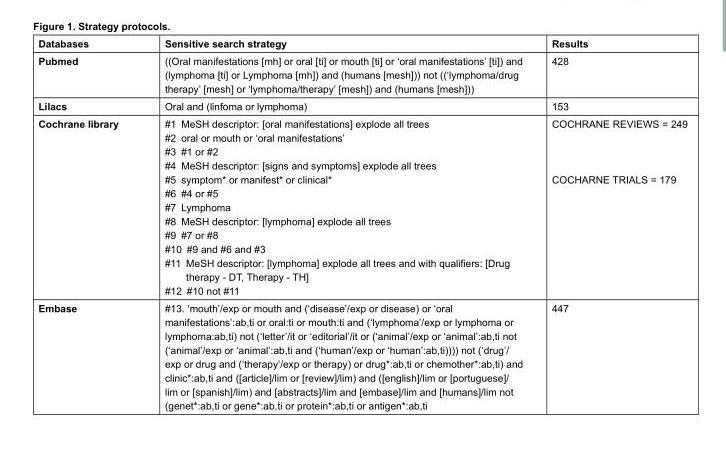table: (37, 37, 686, 410)
table column: (140, 37, 536, 410), (536, 37, 686, 410), (37, 37, 140, 410)
table column header: (37, 37, 686, 51)
table row: (37, 114, 686, 298), (37, 298, 686, 410), (37, 51, 686, 97), (37, 97, 686, 114), (37, 37, 686, 51)
